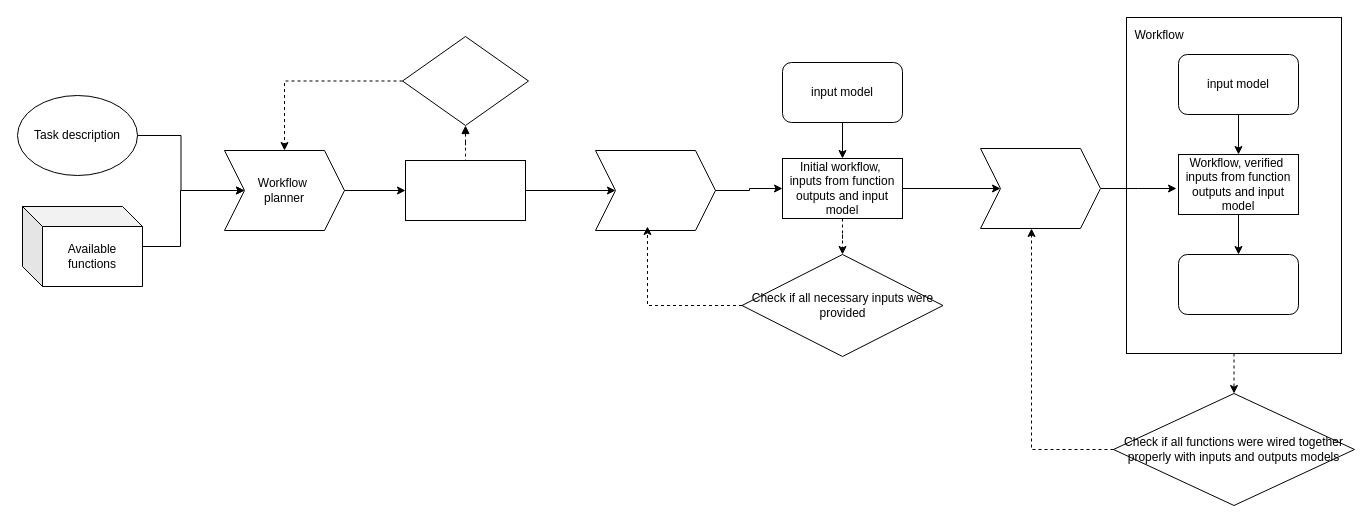
Image size: 1372x523. Some labels were removed from this diagram. The centre of each missing label's shape, as x and y in pixels:
Check if selected functions exist: the point at 465,81
Initial workflow, mix of llm inputs and inputs from function outputs: the point at 465,190
Input collector: the point at 655,190
output model: the point at 1238,284
Workflow adaptor: the point at 1040,188
